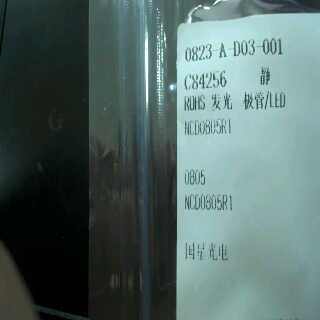LED: (210, 88, 287, 112)
